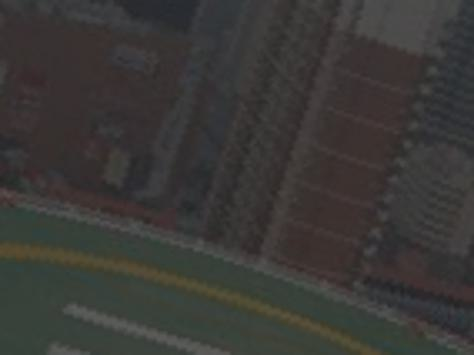Apron: (1, 227, 415, 355)
